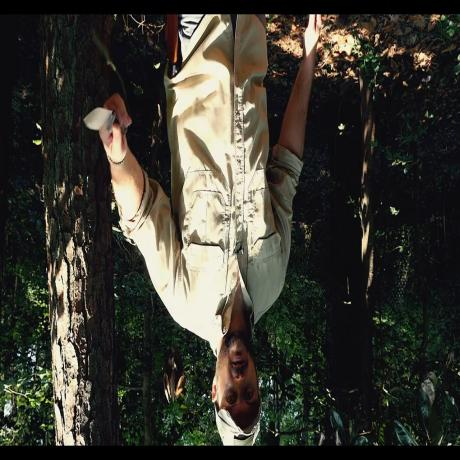1: (102, 0, 321, 450)
weapon: (82, 104, 121, 136)
